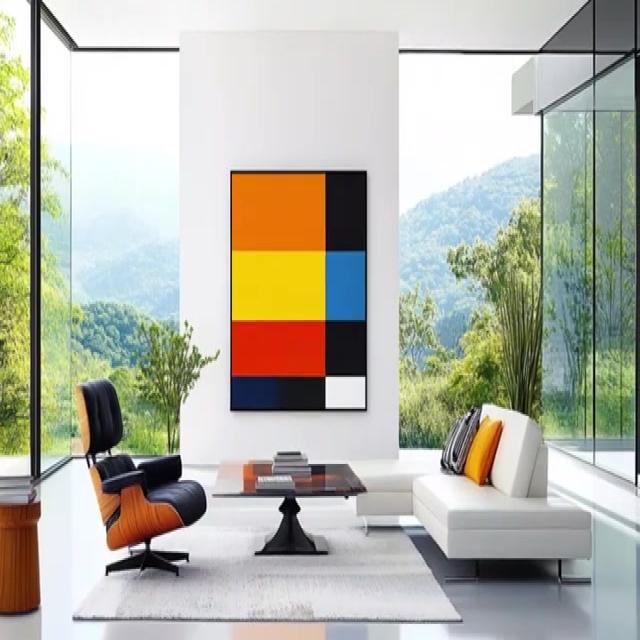obstacle: (411, 402, 592, 583), (74, 377, 206, 578), (211, 458, 366, 554)
